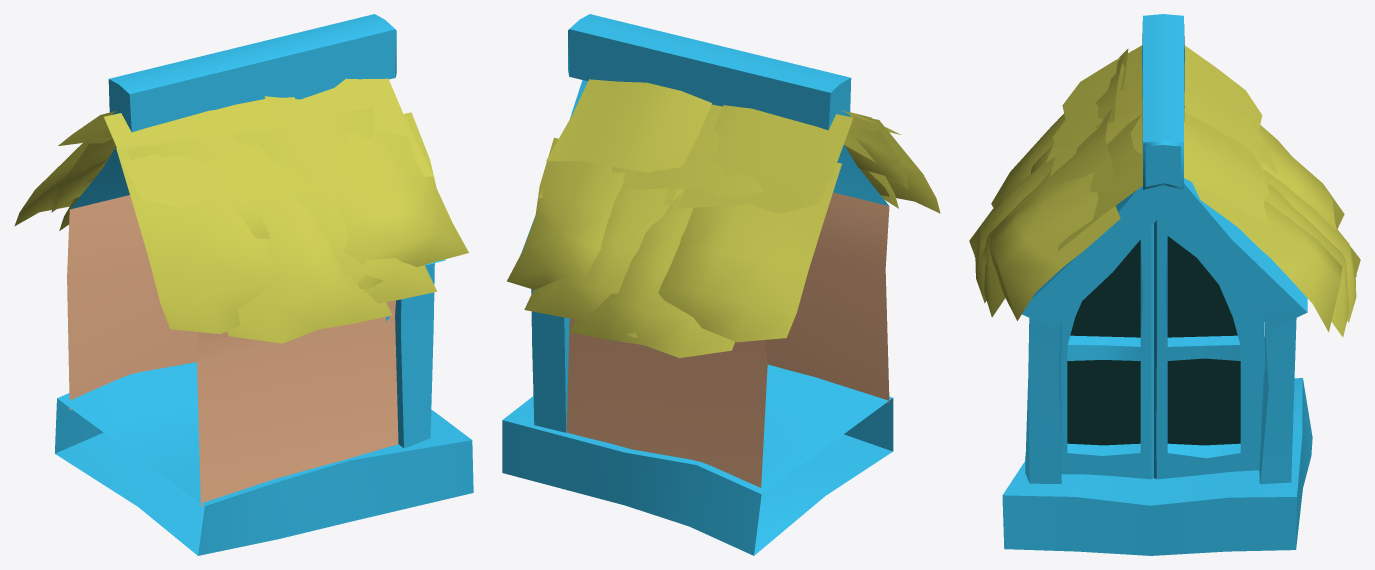
The model's file is Roof_window_02_hay.fbx.
The picture shows the model from 3 angles, left to right: view 1: azimuth 30°, elevation 25°; view 2: azimuth 150°, elevation 25°; view 3: azimuth 270°, elevation 25°; orthographic projection. The views are drawn at different scales.
Parts seen in each view (by area): view 1: Roof_window_02_hay; view 2: Roof_window_02_hay; view 3: Roof_window_02_hay.
Part boxes in pixels (box(x1,y1,x2,y2)): Roof_window_02_hay: box(14, 14, 473, 555); Roof_window_02_hay: box(502, 14, 940, 555); Roof_window_02_hay: box(969, 14, 1360, 555).
Size of the model in its own units: 208 by 278 by 237.
